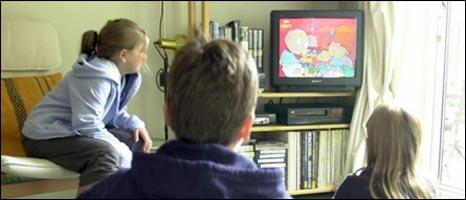person: (20, 19, 152, 195)
